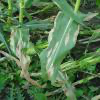Corn leaf blight: (17, 28, 99, 62), (11, 5, 99, 34), (1, 41, 42, 58), (93, 17, 99, 44)
